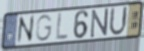6: (72, 10, 90, 41)
G: (35, 14, 54, 43)
L: (55, 12, 69, 41)
N: (16, 13, 36, 46), (90, 7, 109, 40)
U: (107, 6, 129, 38)
